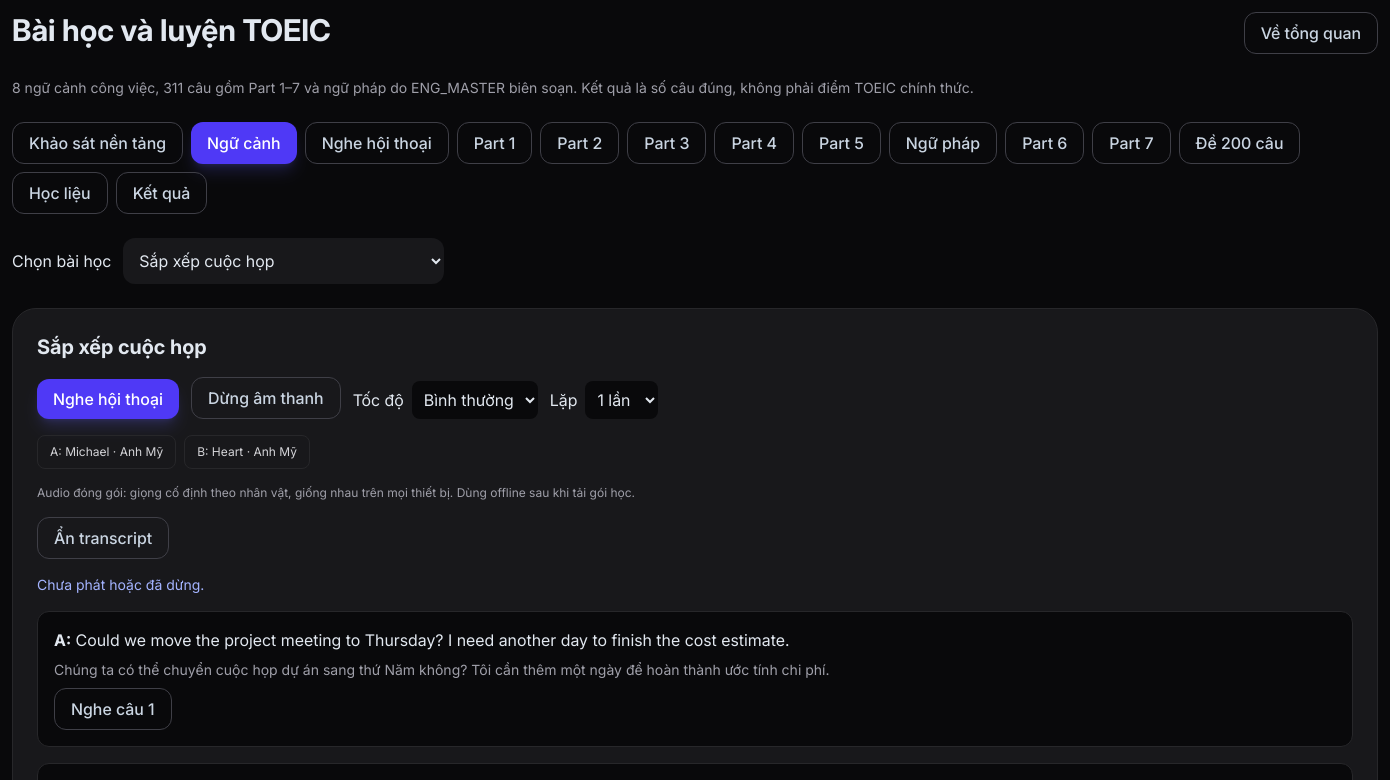
it: starts the listening tab with its transcript hidden even after viewing the context transcript
This screenshot has width=1390, height=780.
Expected: the button "Ẩn transcript" is shown, 37,517 -> 169,559
What coordinates should you click on to do the following:
click the 1st button "Nghe hội thoại"
I would click on:
 (377, 143)
Its box is 305,122 -> 449,164.
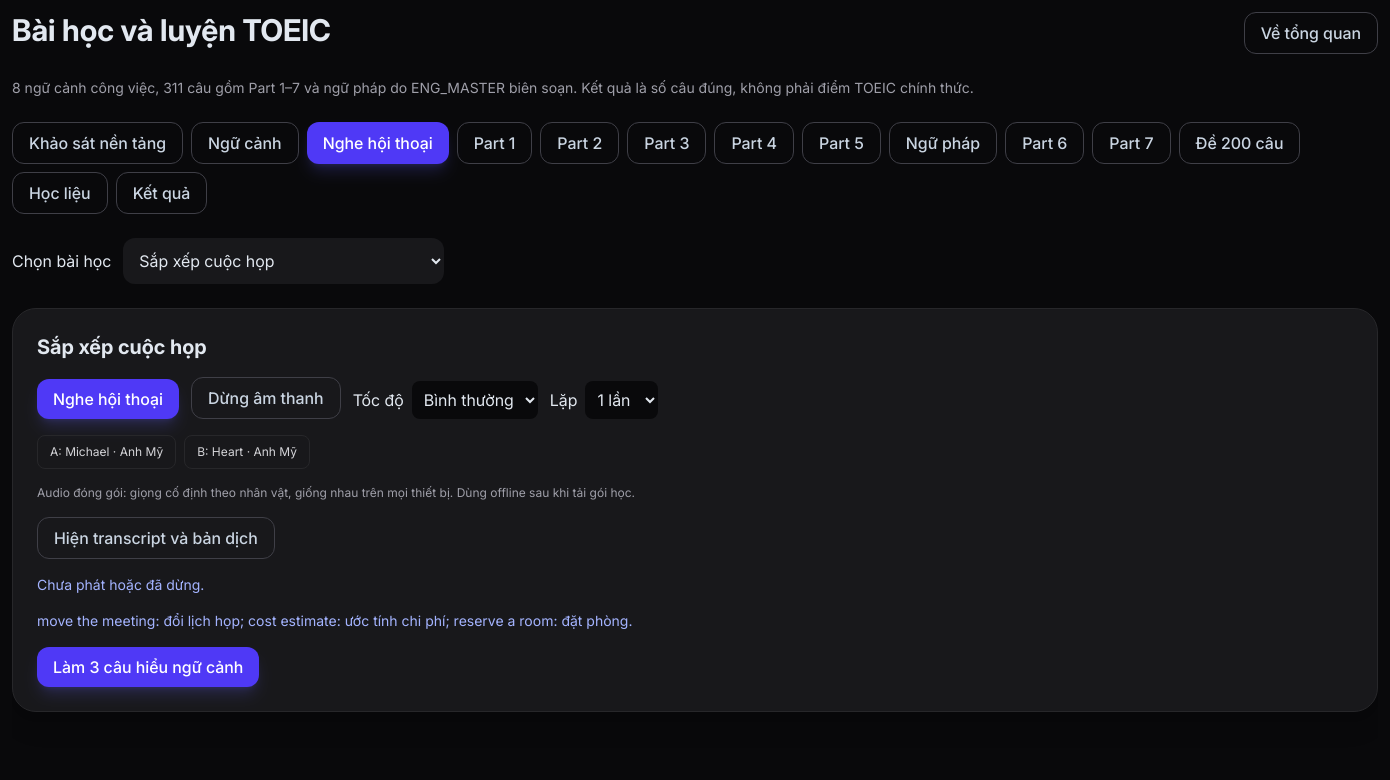
Expected: the button "Hiện transcript và bản dịch" is shown, 37,517 -> 275,559
